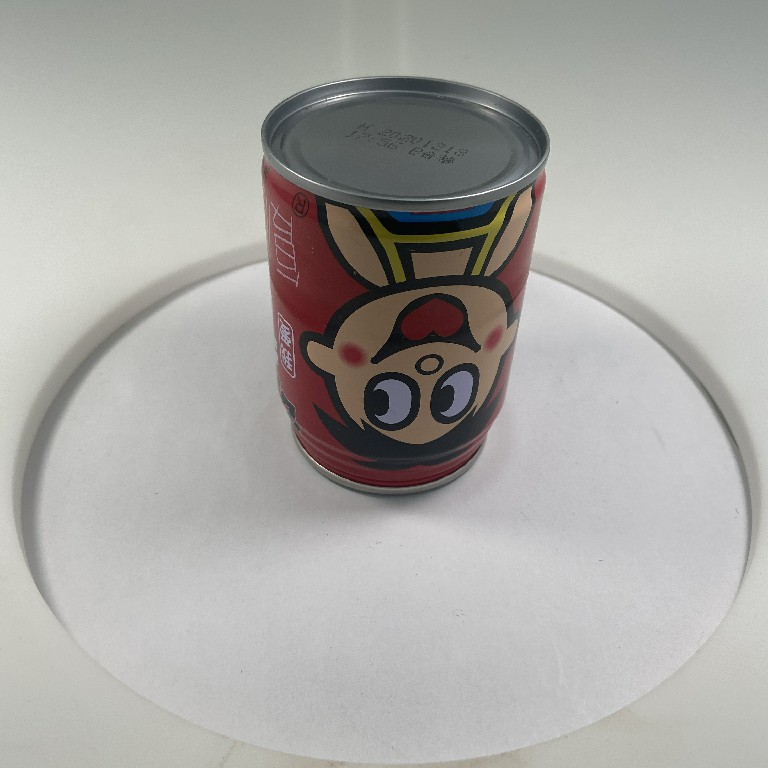can: (254, 71, 555, 500)
